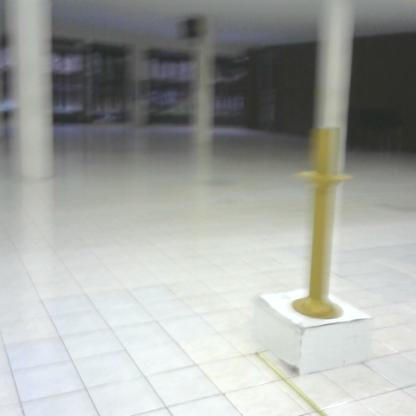pole: (288, 127, 357, 328)
